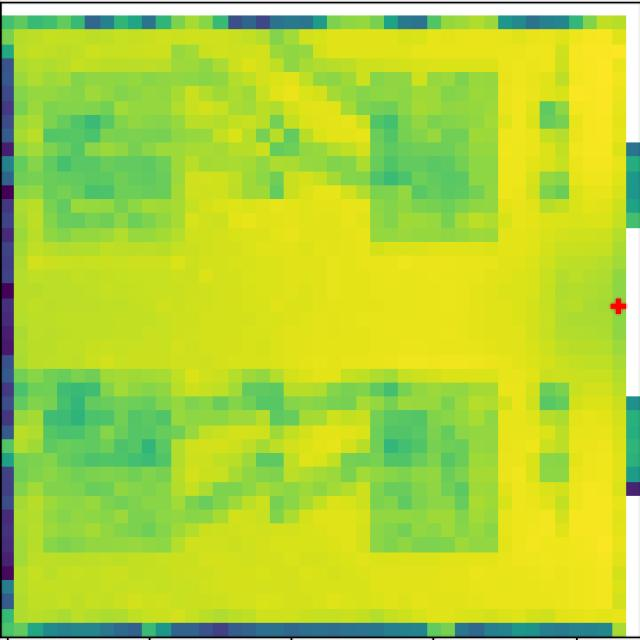Concrete: (40, 368, 172, 553)
Glass: (367, 381, 497, 556)
Metal: (43, 74, 189, 242)
Wood: (368, 70, 499, 242)
